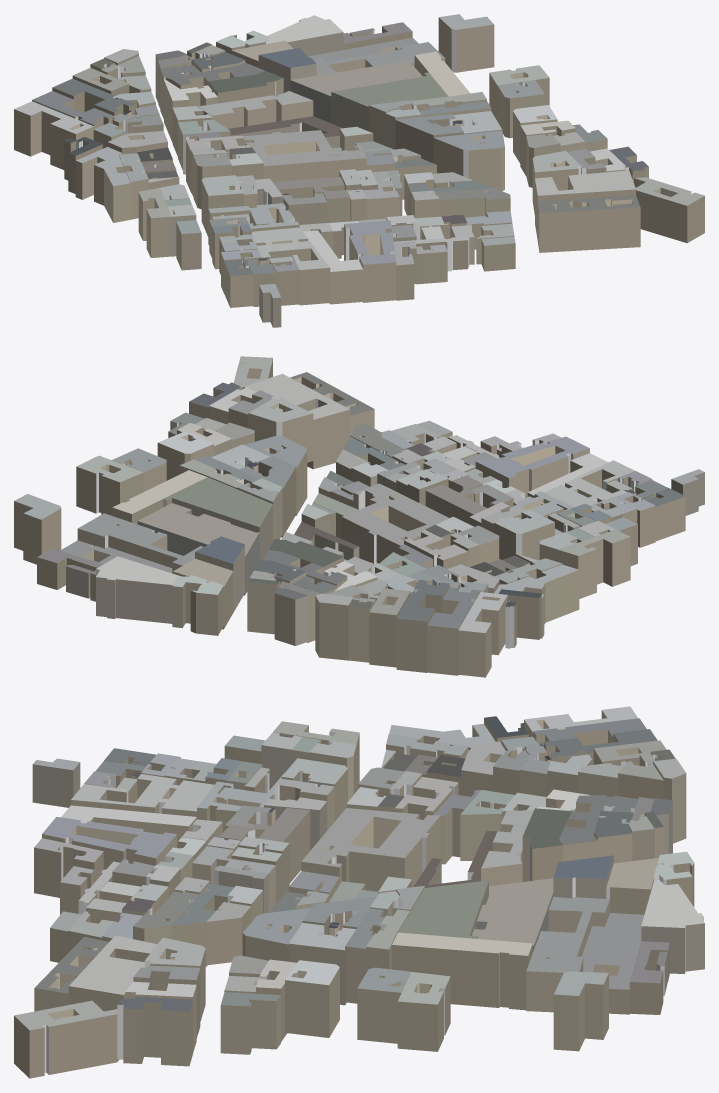
3 views of the same model, one above another, from view 1: azimuth 30°, elevation 25°; view 2: azimuth 150°, elevation 25°; view 3: azimuth 270°, elevation 25° (orthographic). The views are drawn at different scales.
Parts seen in each view (by area): view 1: tuile; view 2: tuile; view 3: tuile.
Part boxes in pixels (x1,y1,x2,y2): tuile: (14, 14, 704, 327); tuile: (14, 356, 704, 677); tuile: (14, 706, 704, 1078).
Size of the model in its own units: 275 by 44.49 by 278.
